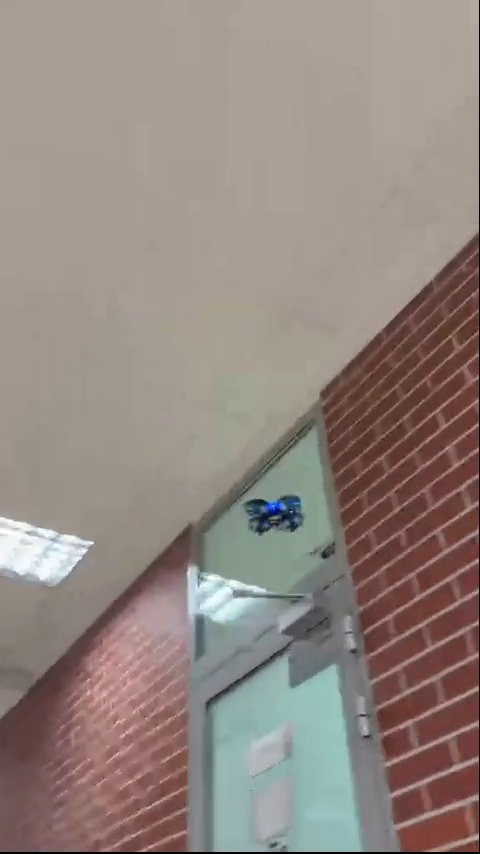drone: (248, 497, 301, 536)
